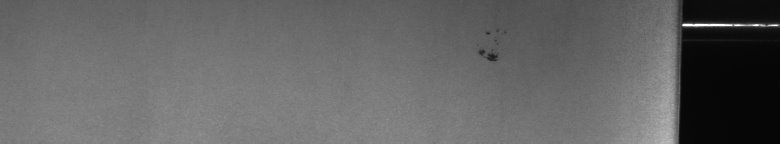fi: (477, 28, 507, 68)
